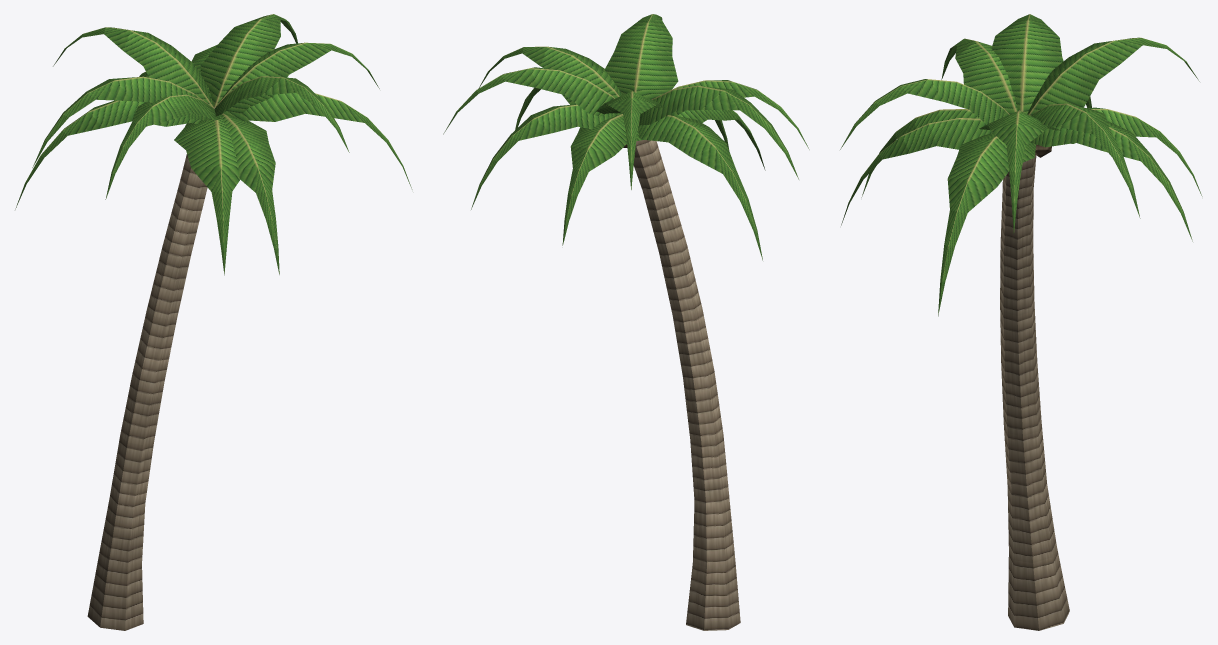
File: palm.glb
The picture shows the model from 3 angles, left to right: view 1: azimuth 30°, elevation 25°; view 2: azimuth 150°, elevation 25°; view 3: azimuth 270°, elevation 25°; orthographic projection. The views are drawn at different scales.
Parts seen in each view (by area): view 1: Palm; view 2: Palm; view 3: Palm.
Boxes of the visible parts, bbox=[...] form: Palm: bbox=[15, 14, 412, 630]; Palm: bbox=[443, 14, 809, 630]; Palm: bbox=[840, 14, 1202, 630].
Size of the model in its own units: 4.86 by 7.54 by 4.12.
Materials: 2 (2 with a texture image).
